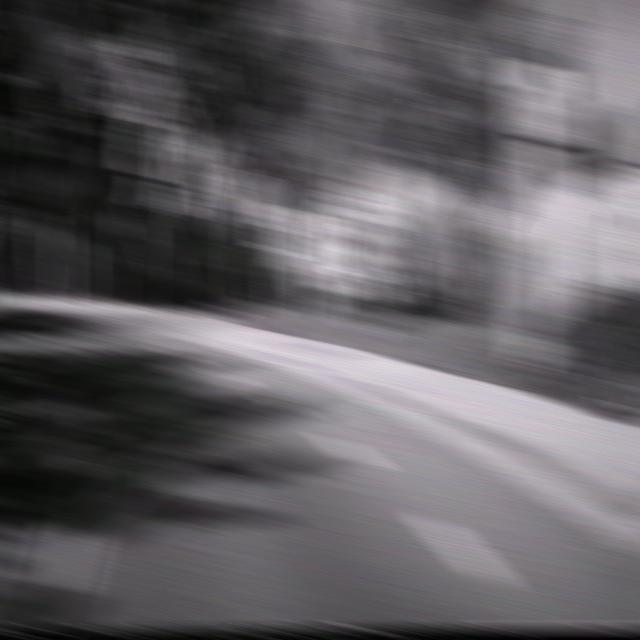stop_sign: (225, 167, 268, 217), (434, 247, 463, 280)
